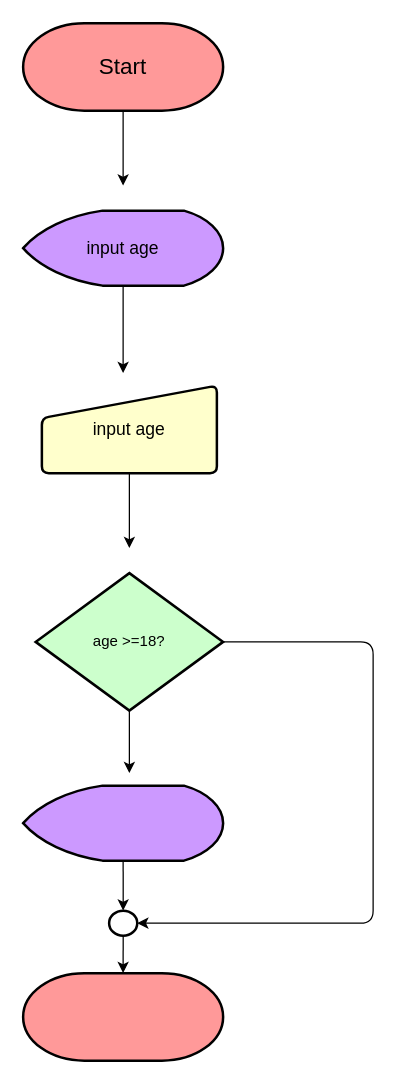
Some shapes in this 405 by 1083 pixel diagram are drawn without their labels. Each missing label, with the centre of its shape:
"You are an aduit.": pixel 122 822
Stop: pixel 122 1016
